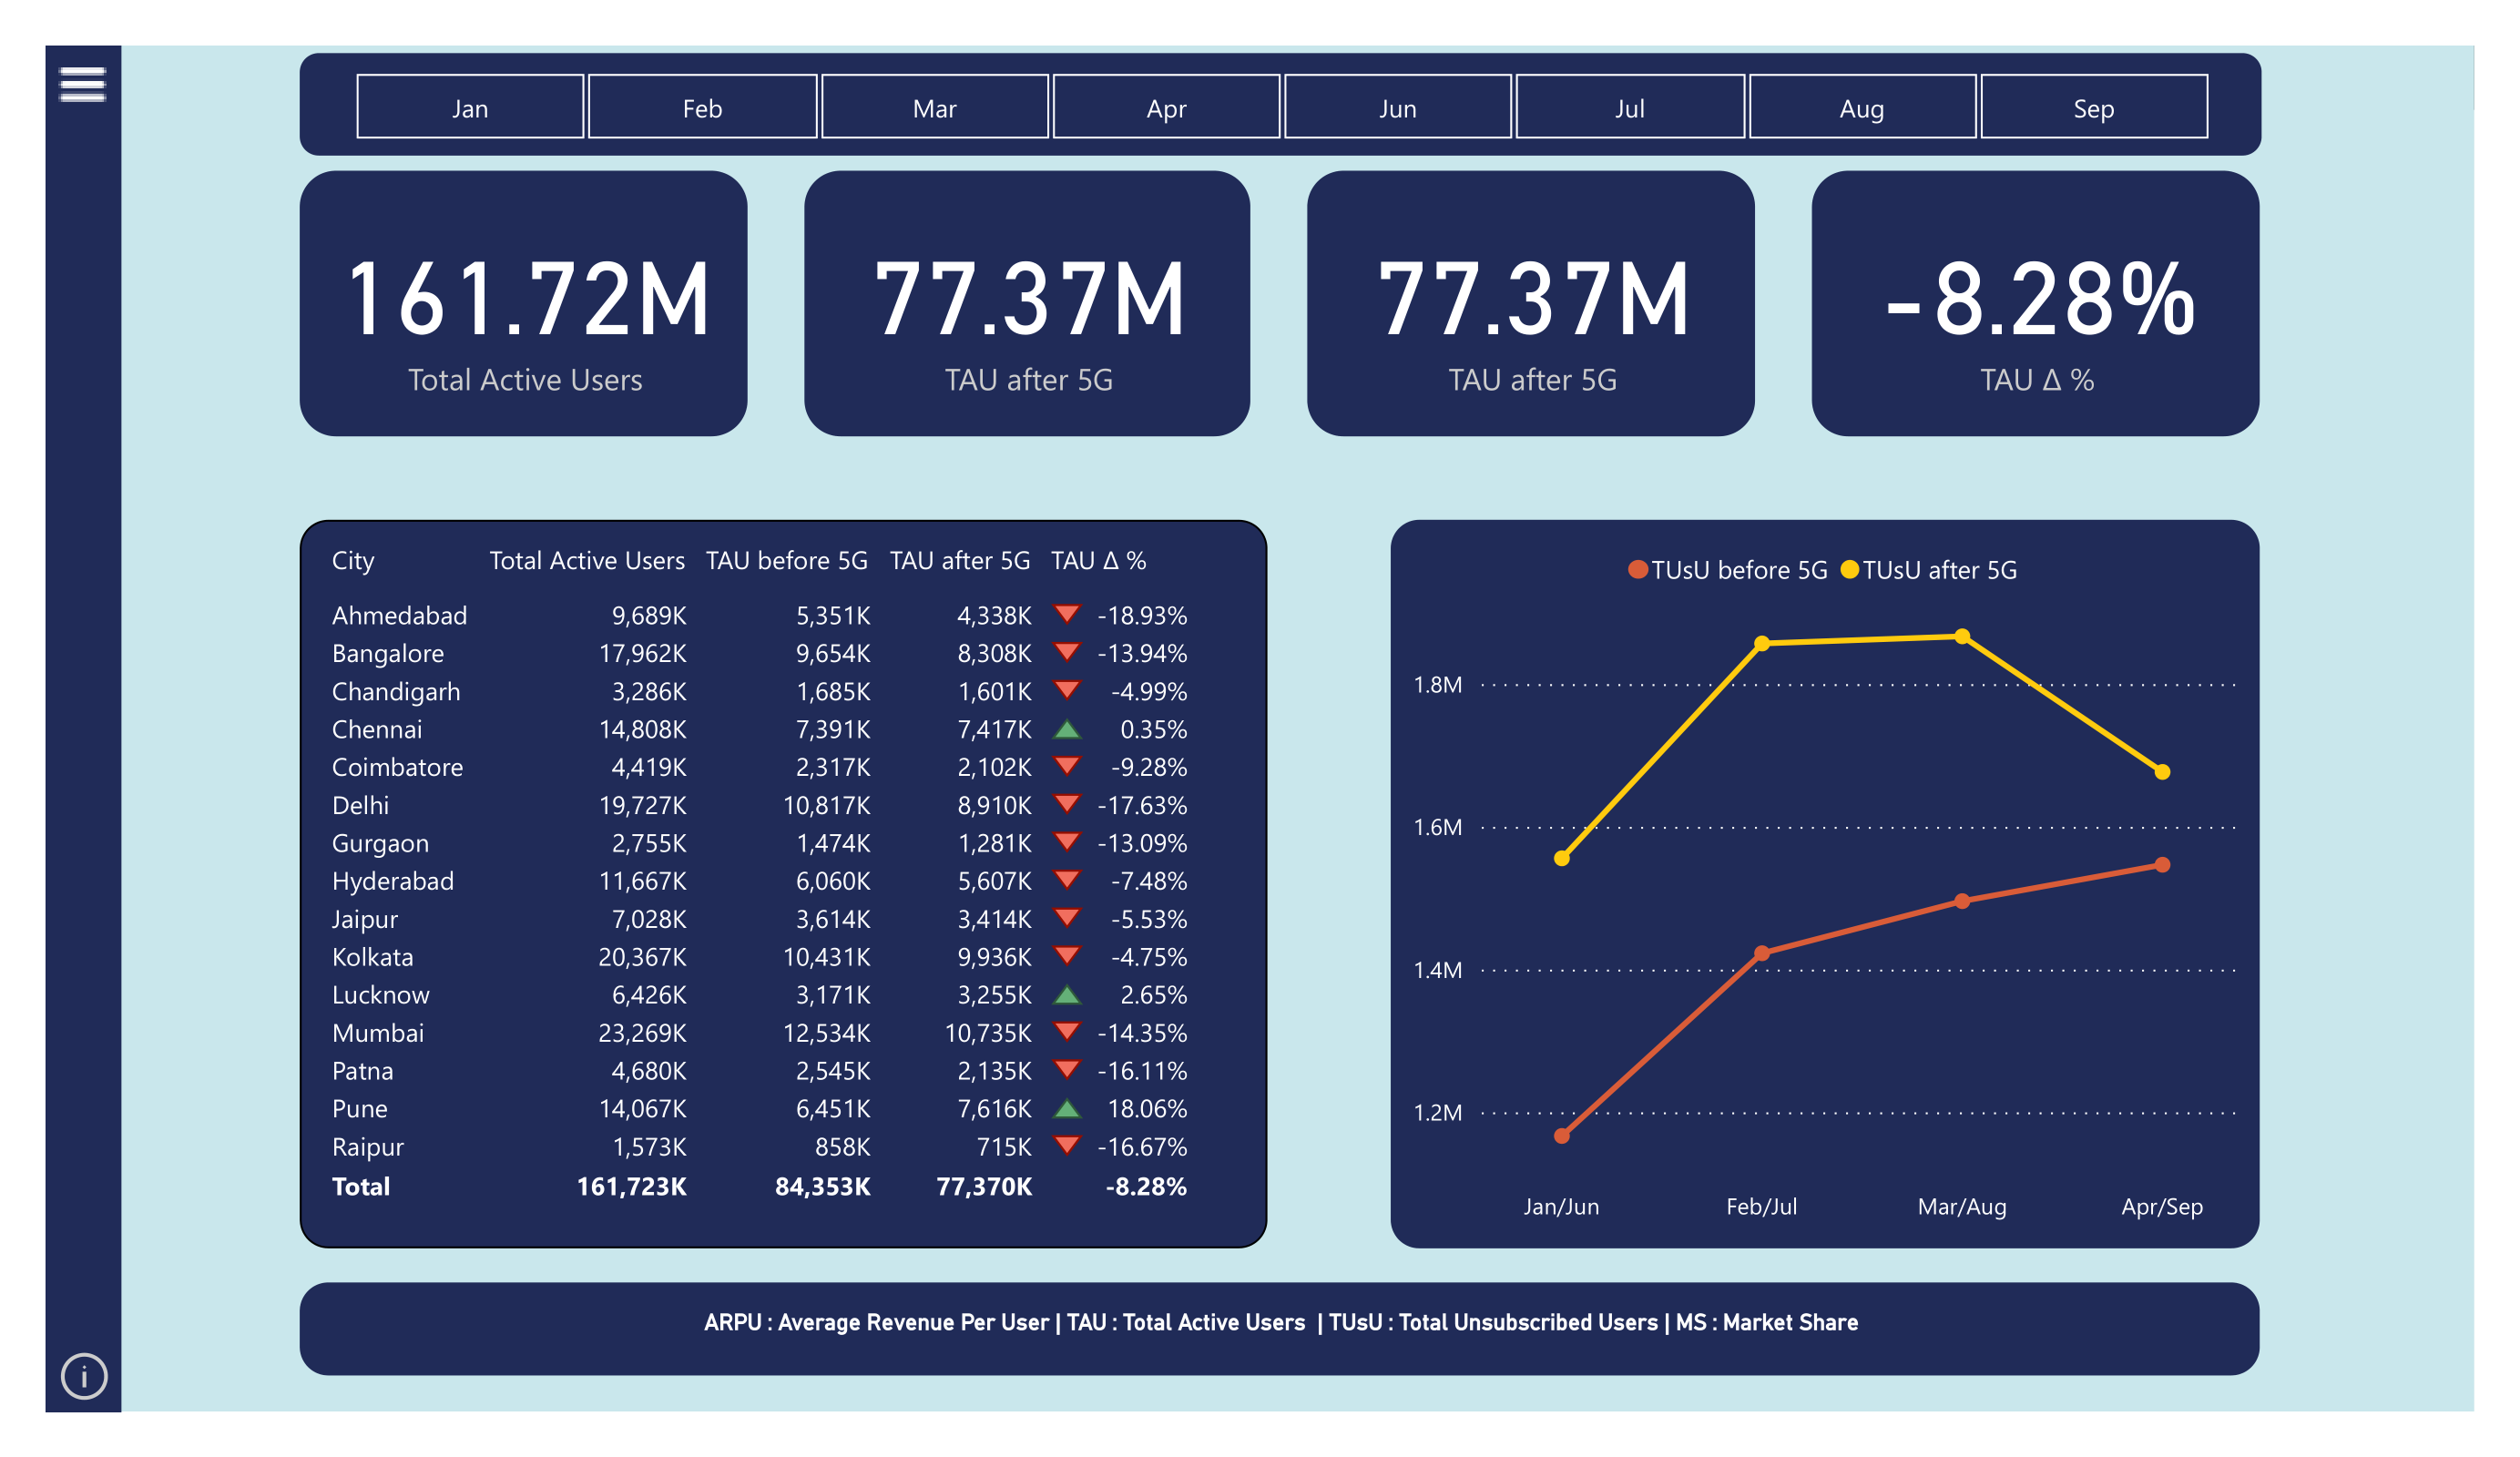

The page's visual inventory and layout, read from the dashboard file:
{"tool":"powerbi","page":{"name":"TAU","canvas":[1280,720],"ordinal":3},"visuals":[{"type":"shape","title":"blue left border","box":[0,0,40,935],"z":0,"group":"g2"},{"type":"slicer","fields":{"Values":["dim_date.month_name"]},"box":[134,4,1034,54],"z":0},{"type":"card","fields":{"Values":["Key Measures.Total Active Users"]},"box":[133.6,66,235.9,140.2],"z":0,"group":"g1"},{"type":"actionButton","title":"hamburger","box":[2,3,35,35],"z":1000,"group":"g2"},{"type":"group","id":"g1","title":"Group 1","box":[133.6,66,1032.6,635],"z":1000},{"type":"card","fields":{"Values":["Key Measures.TAU after 5G"]},"box":[399.2,66,235.9,140.2],"z":1000,"group":"g1"},{"type":"card","fields":{"Values":["Key Measures.TAU after 5G"]},"box":[664.7,66,235.9,140.2],"z":2000,"group":"g1"},{"type":"actionButton","title":"info","box":[3,684.4,34.8,34.8],"z":2000,"group":"g2"},{"type":"group","id":"g2","title":"Menu Bar","box":[0,0,40,935],"z":3000},{"type":"card","fields":{"Values":["Key Measures.TAU Δ %"]},"box":[930.3,66,235.9,140.2],"z":3000,"group":"g1"},{"type":"lineChart","fields":{"Category":["dim_date.Month compare"],"Y":["Key Measures.TUU before 5G","Key Measures.TUU after 5G"]},"box":[709.1,249.9,457.1,384],"z":4000,"group":"g1"},{"type":"tableEx","fields":{"Values":["dim_cities.city_name","Key Measures.Total Active Users","Key Measures.TAU before 5G","Key Measures.TAU after 5G","Key Measures.TAU Δ %"]},"box":[134,250,510,384],"z":5000,"group":"g1"},{"type":"textbox","box":[134.1,652.2,1032.1,48.8],"z":6000,"group":"g1"}]}

Visuals, with their boxes on the page's 1280x720 design canvas (x1, y1, x2, y2). These are canvas units, not pixel positions in the 2520x1457 screenshot, which may show the page scaled, cropped or inside an application window:
"blue left border" shape: region(0, 0, 40, 935)
slicer - dim_date.month_name: region(134, 4, 1168, 58)
card - Key Measures.Total Active Users: region(134, 66, 370, 206)
"hamburger" actionButton: region(2, 3, 37, 38)
"Group 1" group: region(134, 66, 1166, 701)
card - Key Measures.TAU after 5G: region(399, 66, 635, 206)
card - Key Measures.TAU after 5G: region(665, 66, 901, 206)
"info" actionButton: region(3, 684, 38, 719)
"Menu Bar" group: region(0, 0, 40, 935)
card - Key Measures.TAU Δ %: region(930, 66, 1166, 206)
lineChart - dim_date.Month compare x Key Measures.TUU before 5G: region(709, 250, 1166, 634)
tableEx - dim_cities.city_name x Key Measures.Total Active Users: region(134, 250, 644, 634)
textbox: region(134, 652, 1166, 701)
